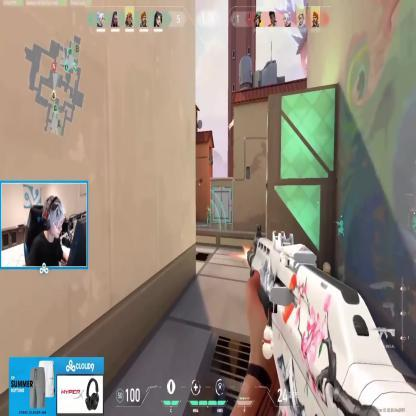enemy: (206, 207, 211, 226)
enemy_head: (206, 207, 210, 210)
